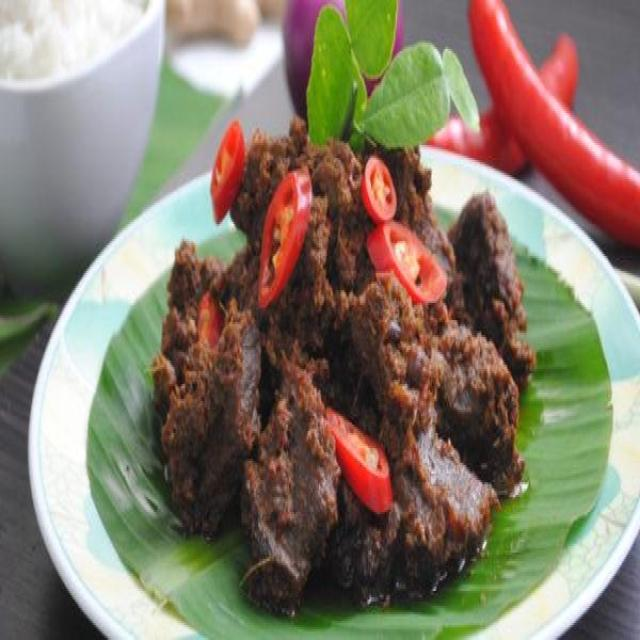Rendang: (138, 123, 546, 640)
